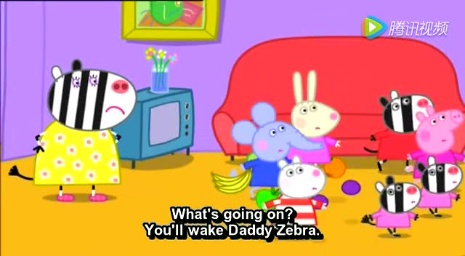Peppa: (408, 106, 464, 164)
